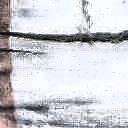crackTip: (1, 28, 128, 55)
